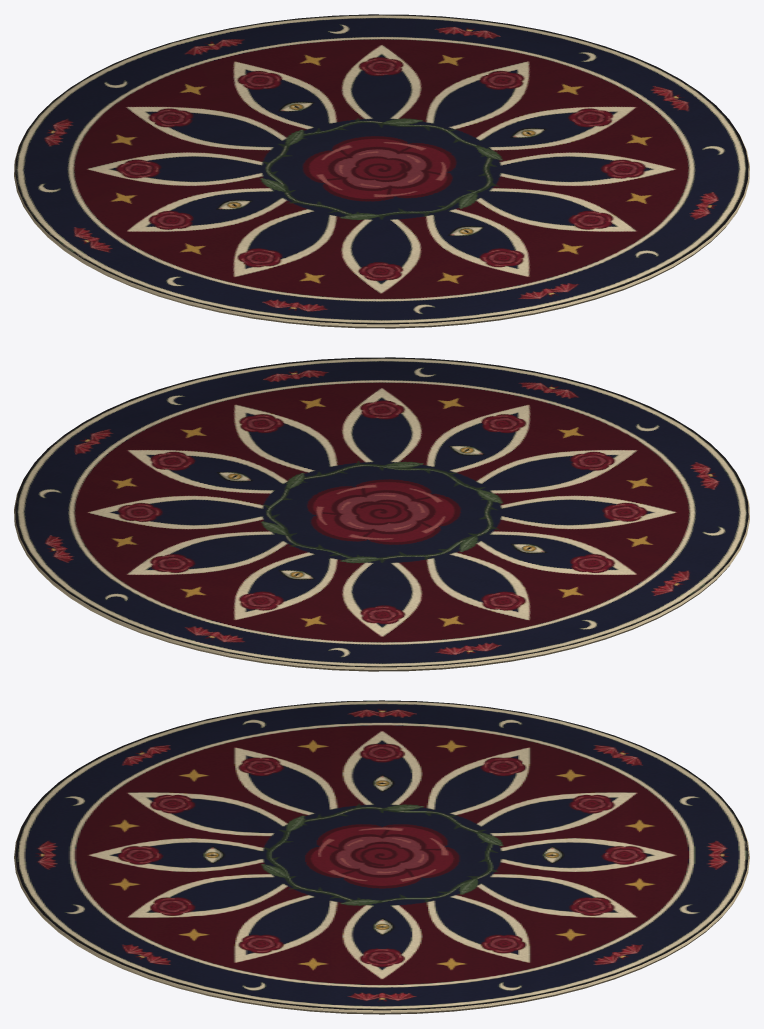
File: ThornRoseRug.fbx
The picture shows the model from 3 angles, top to bottom: view 1: azimuth 30°, elevation 25°; view 2: azimuth 150°, elevation 25°; view 3: azimuth 270°, elevation 25°; orthographic projection.
Parts seen in each view (by area): view 1: ThornRoseRug; view 2: ThornRoseRug; view 3: ThornRoseRug.
Part boxes in pixels (x1=…): ThornRoseRug: x1=14, y1=14, x2=749, y2=328; ThornRoseRug: x1=14, y1=357, x2=749, y2=671; ThornRoseRug: x1=14, y1=700, x2=749, y2=1014.
Bounding box in the file's own units: 907 × 6 × 907.
